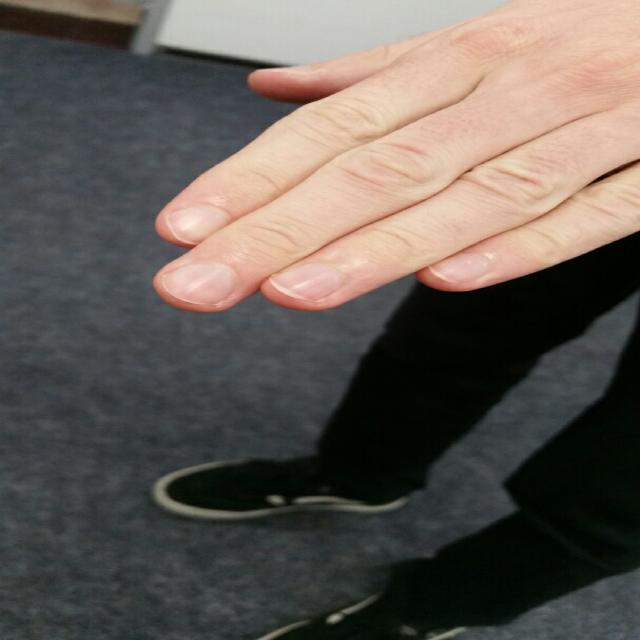Nail: (164, 261, 240, 305), (272, 262, 345, 303), (169, 204, 233, 244), (429, 253, 489, 284), (258, 65, 320, 74)
